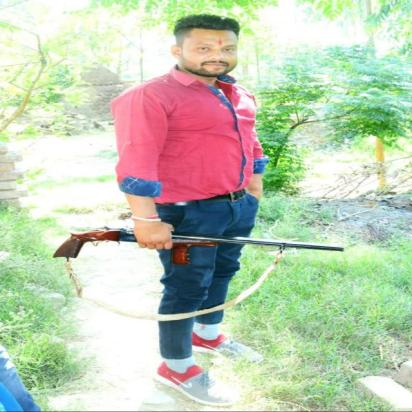Gun: (51, 226, 346, 260)
